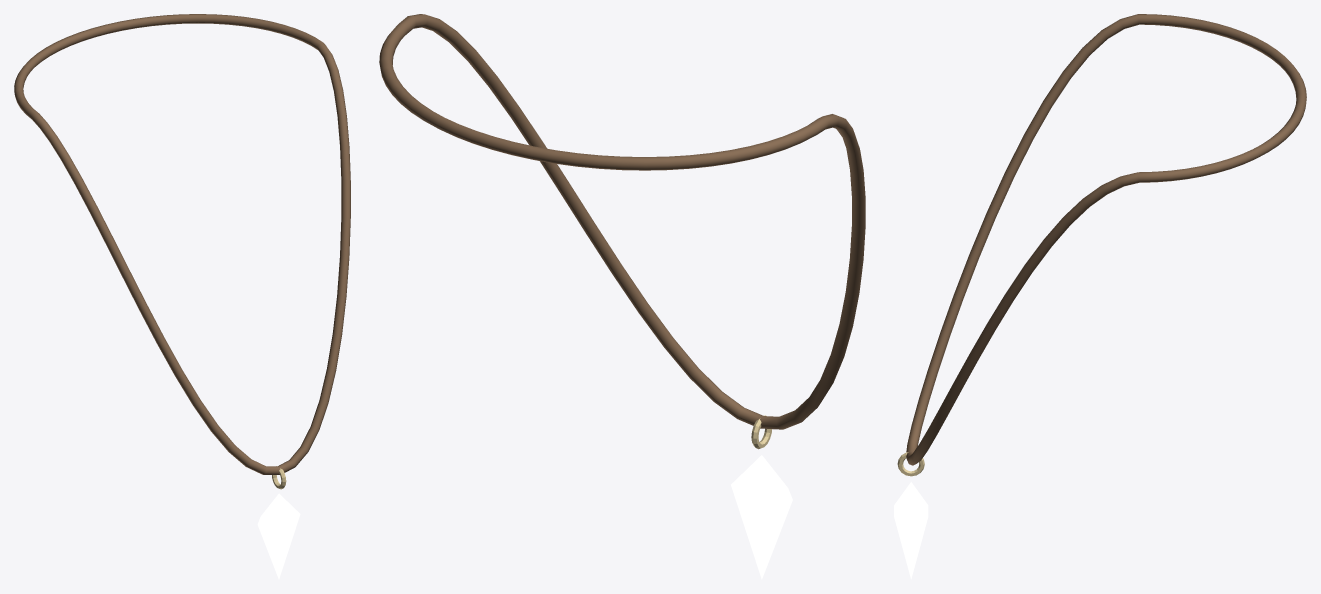
Rendered from necklace.fbx.
3 renders of one model, left to right at view 1: azimuth 30°, elevation 25°; view 2: azimuth 150°, elevation 25°; view 3: azimuth 270°, elevation 25°, orthographic. The views are drawn at different scales.
Parts seen in each view (by area): view 1: Cord, Shard; view 2: Cord, Shard; view 3: Cord, Shard.
Boxes of the visible parts, left/top/right/bottom form: Cord: left=14, top=14, right=350, bottom=474; Shard: left=257, top=493, right=300, bottom=579; Cord: left=379, top=14, right=865, bottom=429; Shard: left=731, top=455, right=792, bottom=579; Cord: left=906, top=14, right=1306, bottom=465; Shard: left=894, top=482, right=928, bottom=579.
Size of the model in its own units: 0.1774 by 0.2474 by 0.1903.
